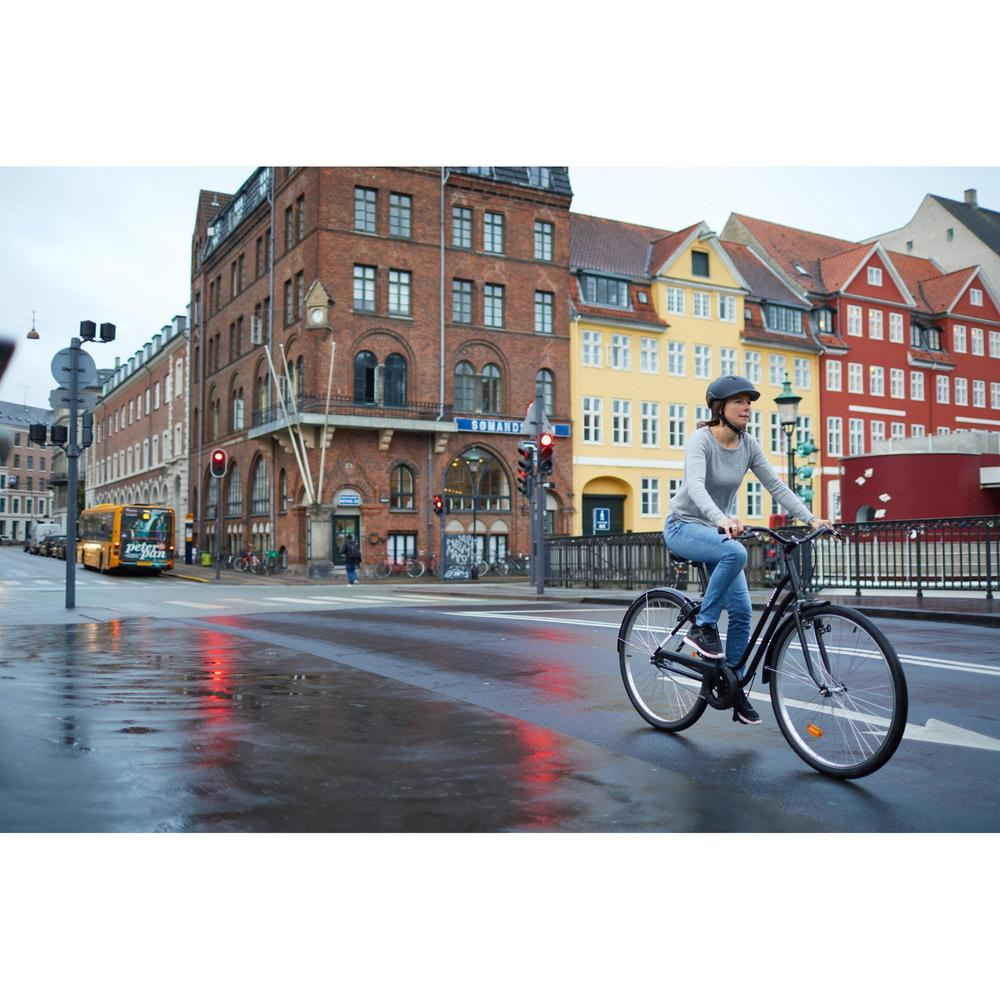UrbanBike: (614, 514, 922, 798)
